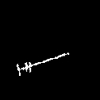treble_crochet: (17, 53, 68, 75)
